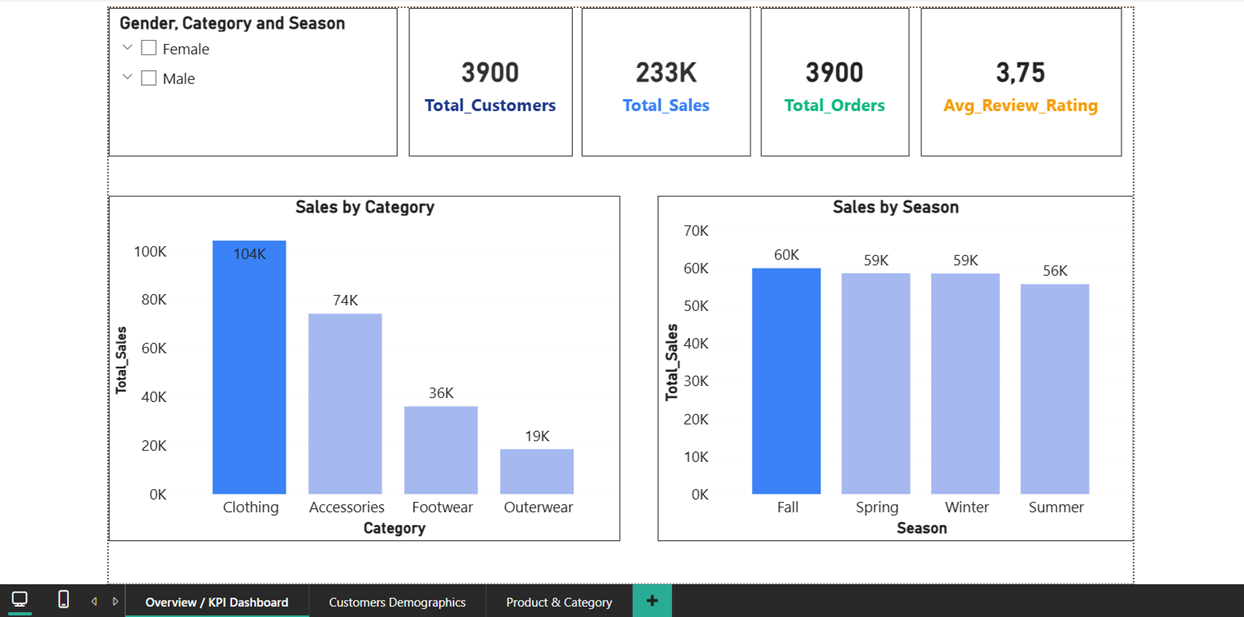

The page's visual inventory and layout, read from the dashboard file:
{"tool":"powerbi","page":{"name":"Overview / KPI Dashboard","canvas":[1280,720],"ordinal":0},"visuals":[{"type":"card","fields":{"Values":["shopping_behavior_updated.Total_Customers"]},"box":[374.6,0,204.5,185.2],"z":0},{"type":"card","fields":{"Values":["shopping_behavior_updated.Total_Sales"]},"box":[591.4,0,211.3,185.2],"z":1000},{"type":"card","fields":{"Values":["shopping_behavior_updated.Total_Orders"]},"box":[815.1,0,185.2,185.2],"z":2000},{"type":"card","fields":{"Values":["Avg(shopping_behavior_updated.Review_Rating)"]},"box":[1015.4,0,251.1,185.2],"z":3000},{"type":"columnChart","title":"Sales by Category","fields":{"Y":["Sum(shopping_behavior_updated.Purchase_Amount)"],"Category":["shopping_behavior_updated.Category"]},"box":[0,234.6,639.5,432.2],"z":4000},{"type":"clusteredColumnChart","title":"Sales by Season","fields":{"Y":["shopping_behavior_updated.Total_Sales"],"Category":["shopping_behavior_updated.Season"]},"box":[686.1,234.6,594.2,432.2],"z":5000},{"type":"slicer","fields":{"Values":["shopping_behavior_updated.Gender","shopping_behavior_updated.Category","shopping_behavior_updated.Season"]},"box":[0,0,360.9,185.2],"z":6000}]}

Visuals, with their boxes on the page's 1280x720 design canvas (x1, y1, x2, y2). These are canvas units, not pixel positions in the 1244x617 screenshot, which may show the page scaled, cropped or inside an application window:
card - shopping_behavior_updated.Total_Customers: (x1=375, y1=0, x2=579, y2=185)
card - shopping_behavior_updated.Total_Sales: (x1=591, y1=0, x2=803, y2=185)
card - shopping_behavior_updated.Total_Orders: (x1=815, y1=0, x2=1000, y2=185)
card - Avg(shopping_behavior_updated.Review_Rating): (x1=1015, y1=0, x2=1266, y2=185)
"Sales by Category" columnChart: (x1=0, y1=235, x2=640, y2=667)
"Sales by Season" clusteredColumnChart: (x1=686, y1=235, x2=1280, y2=667)
slicer - shopping_behavior_updated.Gender x shopping_behavior_updated.Category: (x1=0, y1=0, x2=361, y2=185)
